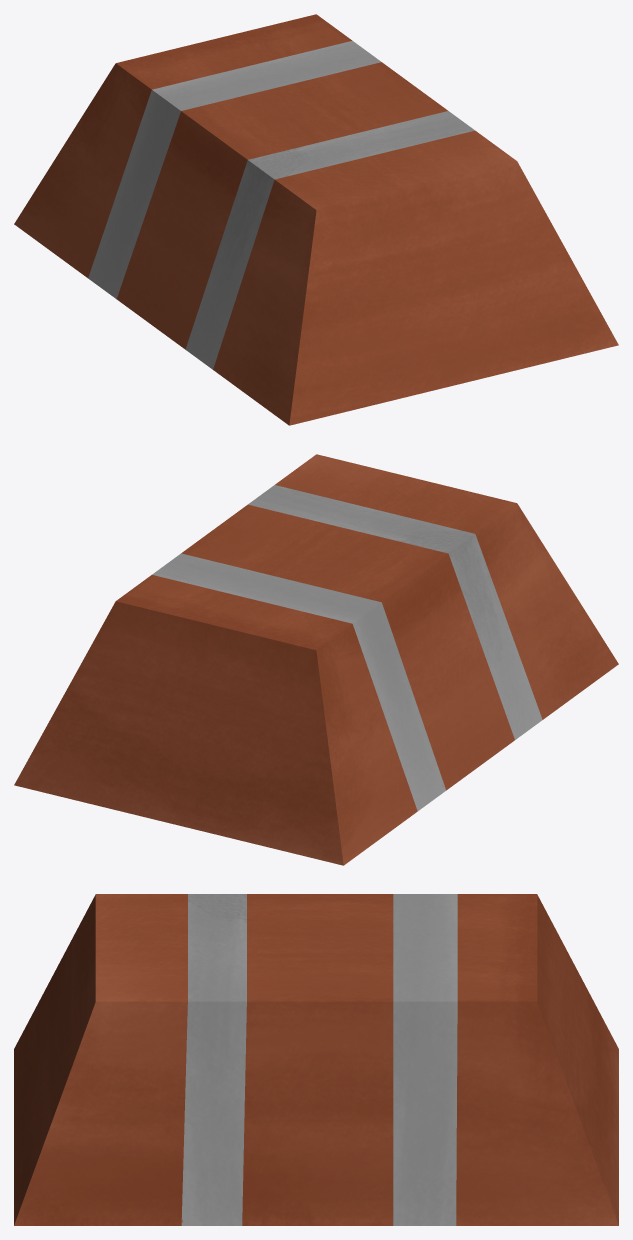
File: Bar_mixed_CI.fbx
The picture shows the model from 3 angles, top to bottom: view 1: azimuth 30°, elevation 25°; view 2: azimuth 150°, elevation 25°; view 3: azimuth 270°, elevation 25°; orthographic projection. The views are drawn at different scales.
Parts seen in each view (by area): view 1: bar_mixed_CI; view 2: bar_mixed_CI; view 3: bar_mixed_CI.
Boxes of the visible parts, x1,y1,x2,y2 form: bar_mixed_CI: (14, 14, 618, 425); bar_mixed_CI: (14, 454, 618, 865); bar_mixed_CI: (14, 894, 618, 1225).
Size of the model in its own units: 18.18 by 26.3 by 9.09.
